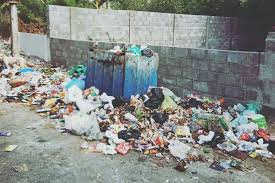garbage: (127, 101, 275, 168), (67, 90, 225, 150), (2, 54, 84, 106)
